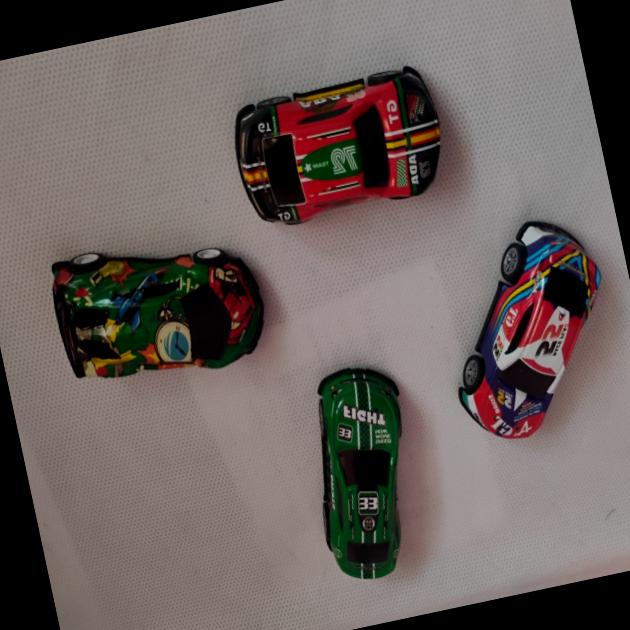toy car: (207, 32, 510, 241), (412, 189, 630, 459), (40, 210, 278, 389), (278, 350, 448, 592)
